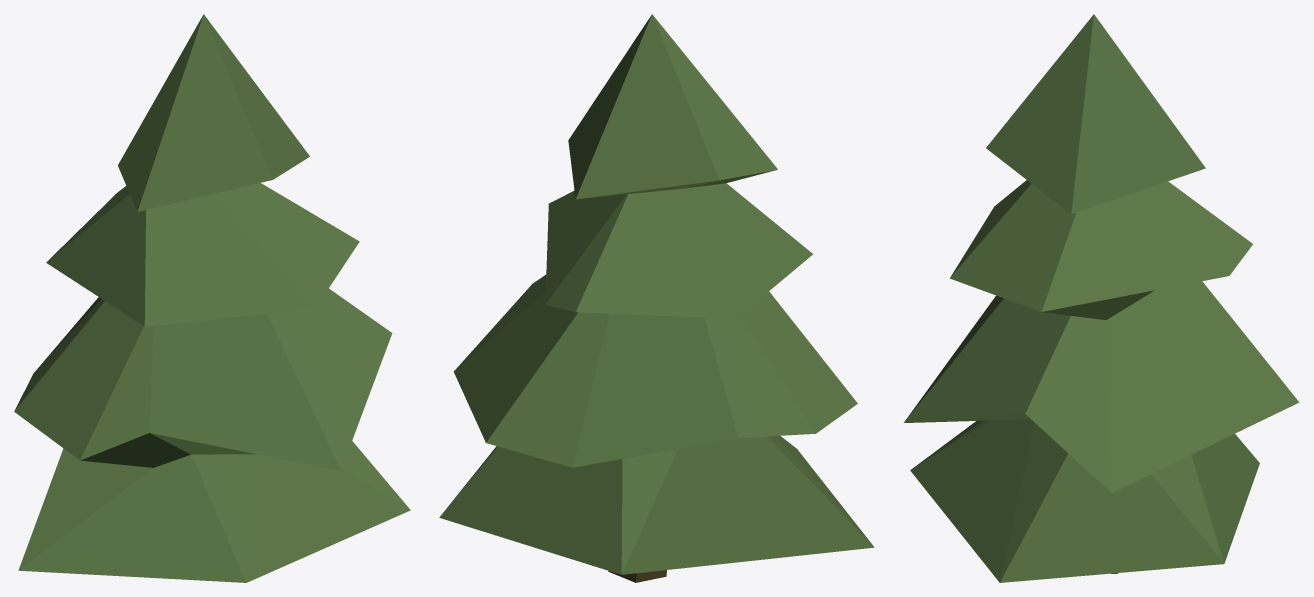
Rendered from TreeAutumn5_Alt1.fbx.
3 renders of one model, left to right at view 1: azimuth 30°, elevation 25°; view 2: azimuth 150°, elevation 25°; view 3: azimuth 270°, elevation 25°, orthographic. The views are drawn at different scales.
Visible parts, largest first — view 1: TreeAutumn5_Alt1; view 2: TreeAutumn5_Alt1; view 3: TreeAutumn5_Alt1.
Part boxes in pixels (left/top/right/bottom): TreeAutumn5_Alt1: left=14, top=14, right=410, bottom=582; TreeAutumn5_Alt1: left=439, top=14, right=874, bottom=582; TreeAutumn5_Alt1: left=904, top=14, right=1299, bottom=582.
Bounding box in the file's own units: 1.27 × 1.72 × 1.13.
